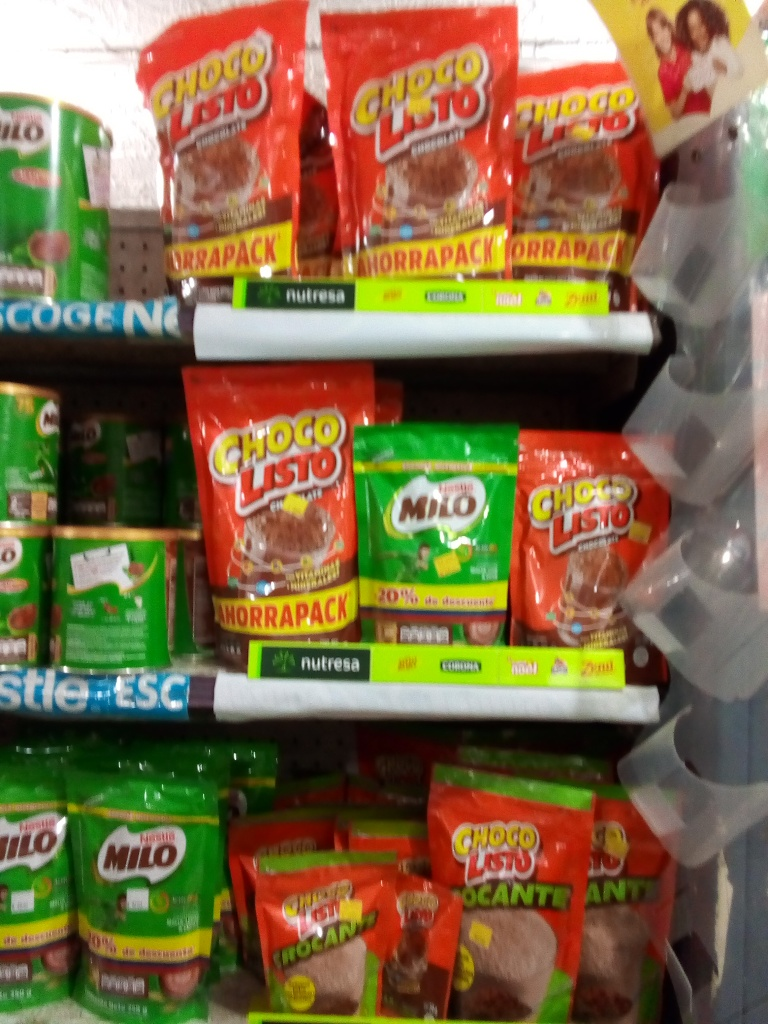COL0170102DYP10000: (248, 842, 395, 1017)
COL0170102DYP25000: (433, 764, 592, 1022)
COL0170103DYP20000: (516, 425, 653, 648)
COL0170103DYP36000: (180, 364, 377, 664)
COL0170103DYP40000: (505, 57, 659, 306)
COL0170103DYP44000: (133, 5, 318, 303)
COL0170103SOB02000: (390, 871, 467, 1024)
COL0170203DYP25000: (351, 422, 516, 646)
COL0170203LAT40000: (46, 522, 179, 672)
